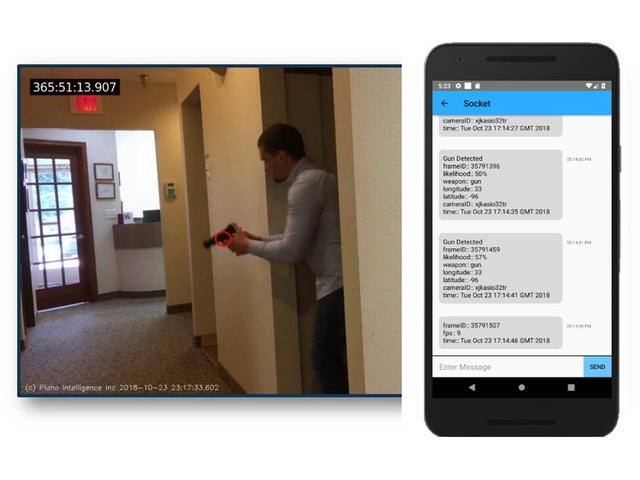pistol: (203, 222, 243, 261)
